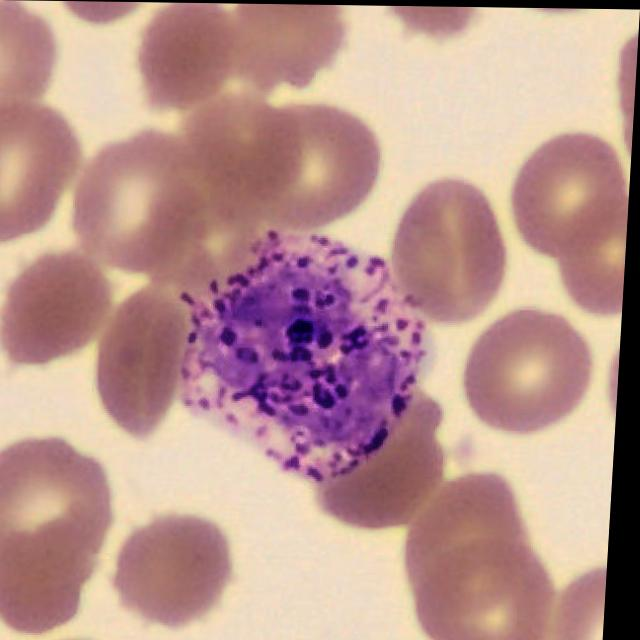Basofilo: (183, 227, 432, 482)
